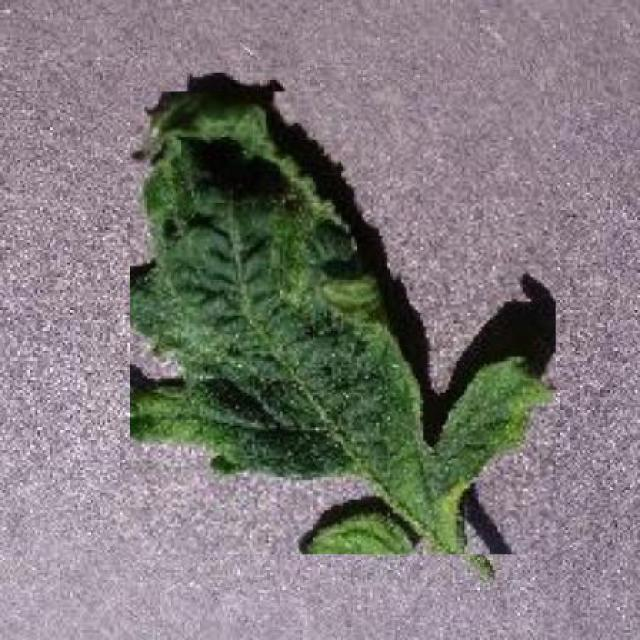Mosaic Virus: (130, 92, 556, 555)
